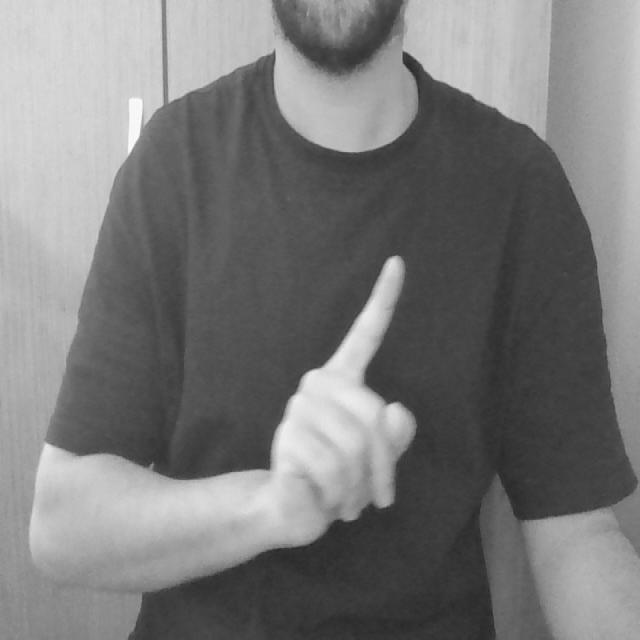Hayir: (273, 204, 429, 568)
